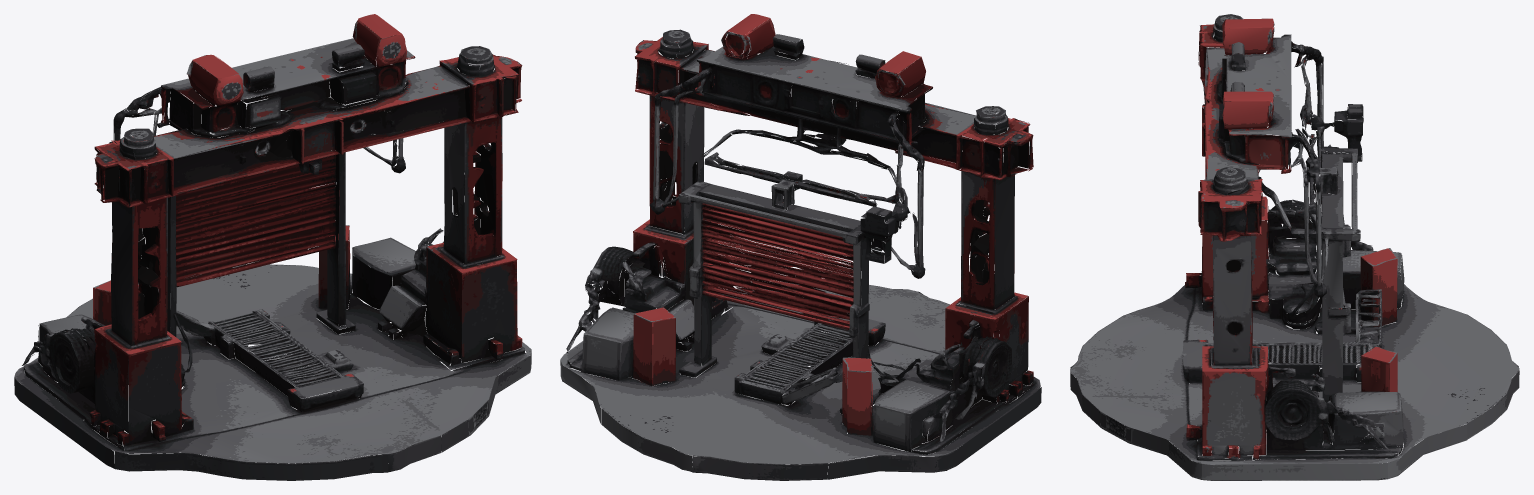
Rendered from boss.glb.
The picture shows the model from 3 angles, left to right: view 1: azimuth 30°, elevation 25°; view 2: azimuth 150°, elevation 25°; view 3: azimuth 270°, elevation 25°; orthographic projection. The views are drawn at different scales.
Parts seen in each view (by area): view 1: boss; view 2: boss; view 3: boss.
Part boxes in pixels (left/top/right/bottom): boss: left=14, top=14, right=531, bottom=480; boss: left=560, top=14, right=1041, bottom=480; boss: left=1070, top=14, right=1519, bottom=480.
Size of the model in its own units: 4.21 by 3.39 by 4.2.
Materials: 1 (1 with a texture image).
